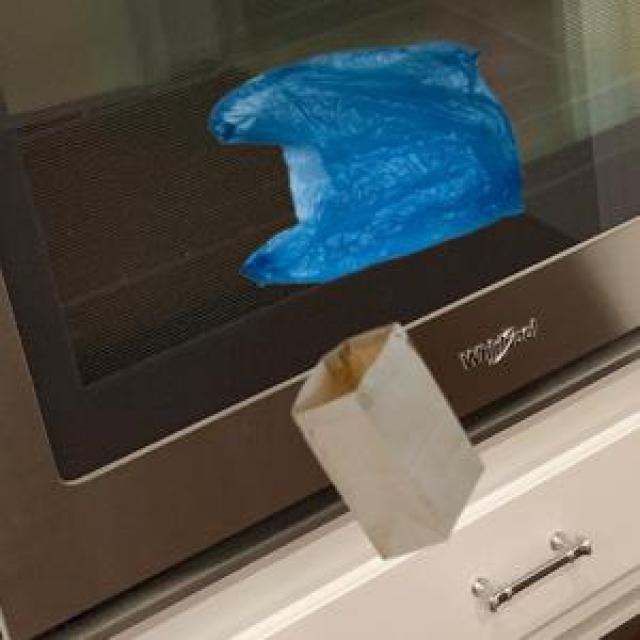paper: (288, 320, 480, 555)
